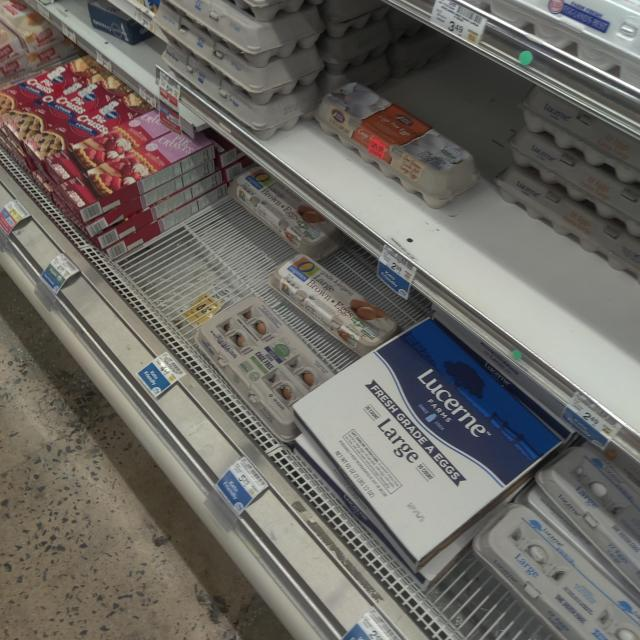Eggs: (483, 449, 640, 640), (310, 68, 469, 213), (193, 284, 312, 425), (261, 244, 409, 346)
